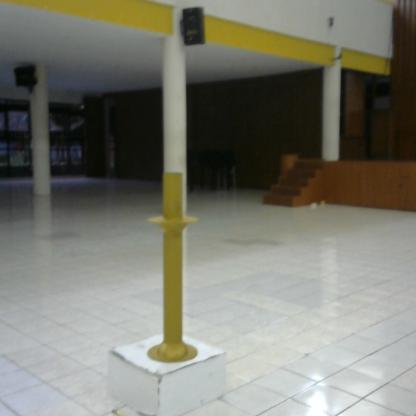pole: (142, 167, 209, 368)
